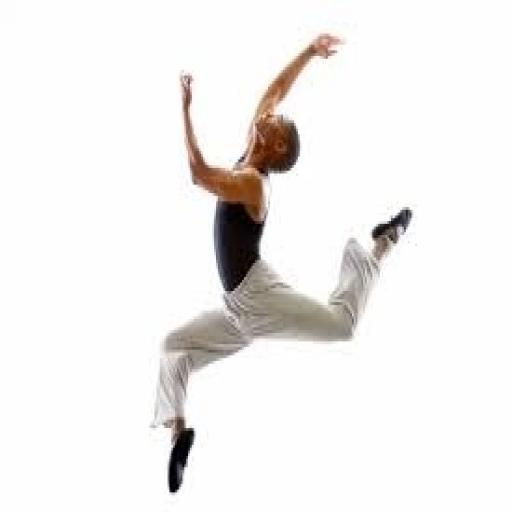dancing: (147, 28, 417, 498)
